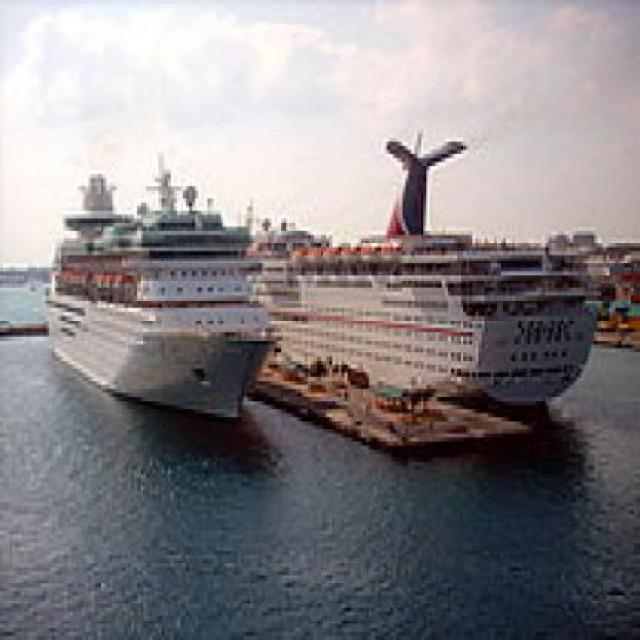cruise: (254, 211, 611, 426), (28, 162, 288, 435)
